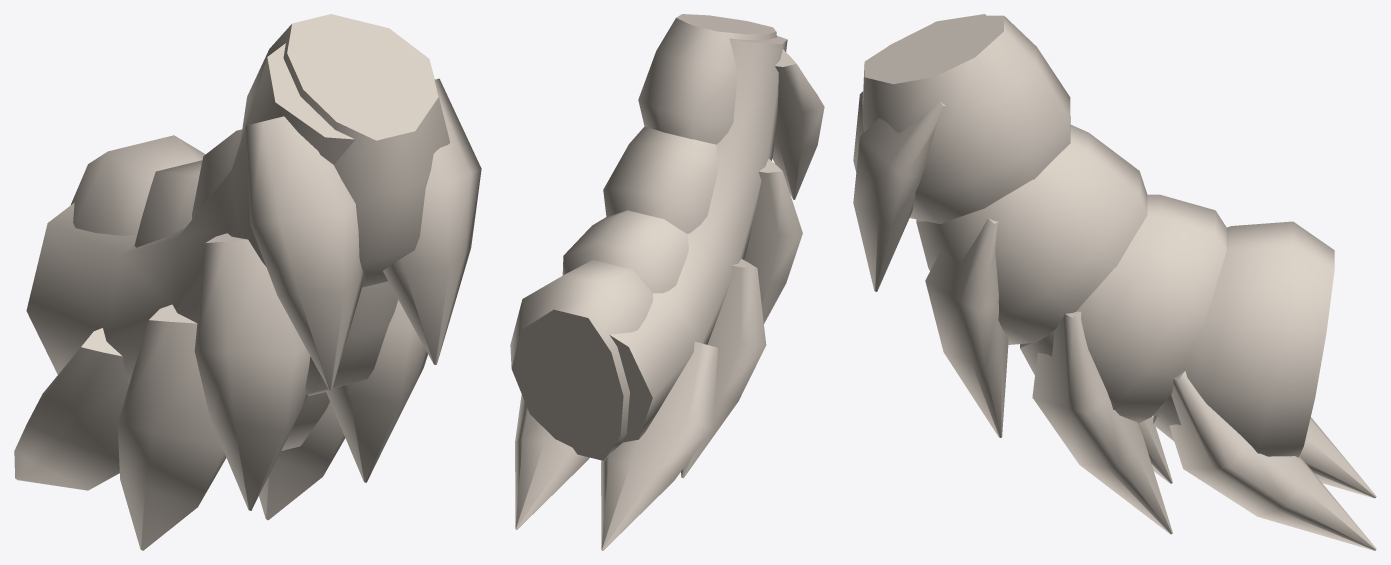
The model's file is beetle_tail.glb.
3 renders of one model, left to right at view 1: azimuth 30°, elevation 25°; view 2: azimuth 150°, elevation 25°; view 3: azimuth 270°, elevation 25°, orthographic. The views are drawn at different scales.
Visible parts, largest first — view 1: beetle_tail; view 2: beetle_tail; view 3: beetle_tail.
Part boxes in pixels (x1=…): beetle_tail: x1=14, y1=14, x2=481, y2=550; beetle_tail: x1=510, y1=14, x2=824, y2=550; beetle_tail: x1=853, y1=14, x2=1376, y2=550.
Bounding box in the file's own units: 0.4103 × 0.8332 × 0.7847.
